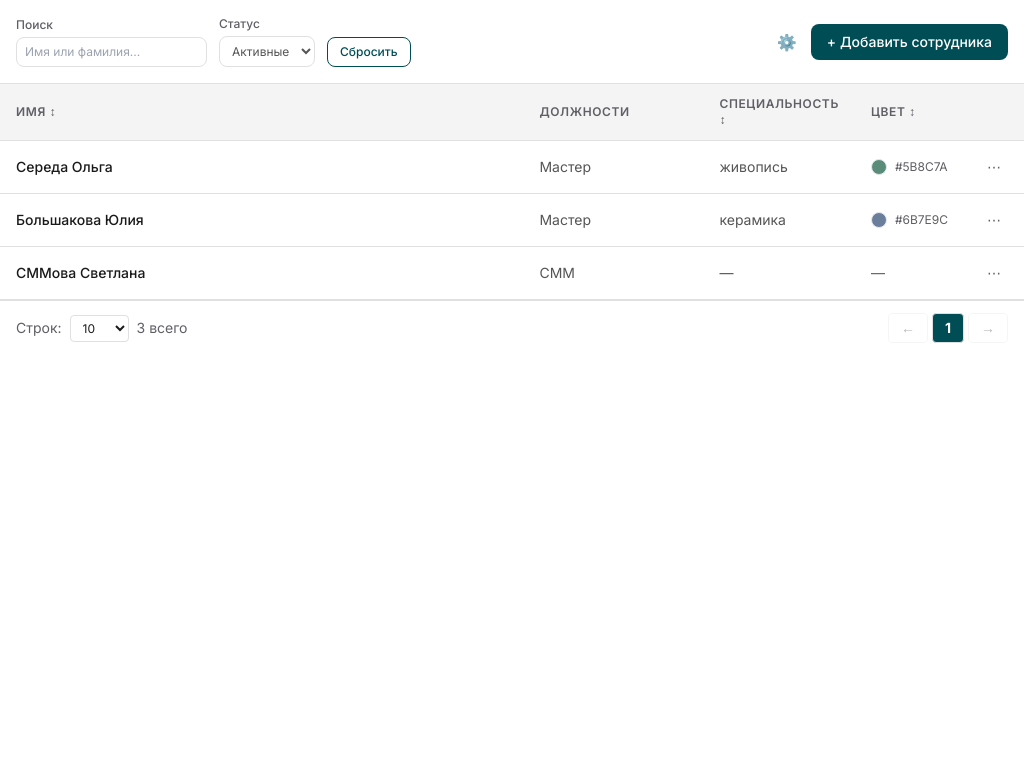
it: StaffTable › opens DeleteDialog with the 409 dependency tree when delete conflicts
Check: the text "Середа Ольга" is shown, box top-left (16, 158), bottom-right (113, 175)
Click the button named "Действия". click: (994, 167)
box: top-left (980, 153), bottom-right (1008, 181)
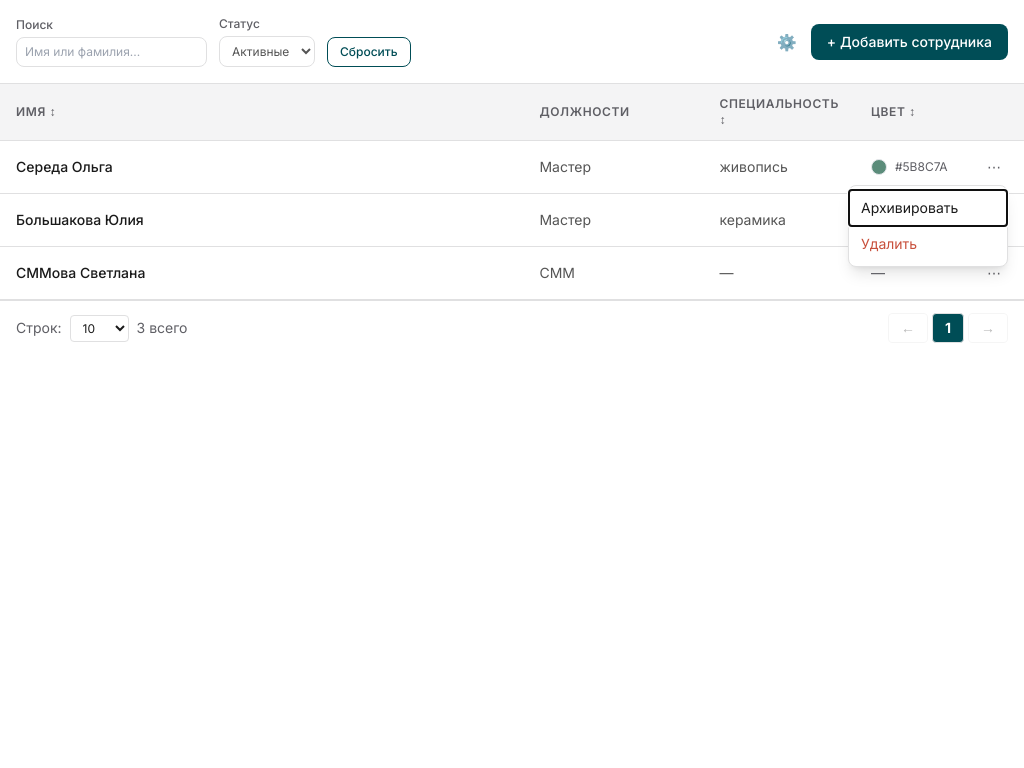
Click the menu item "Удалить". click: (928, 244)
box: top-left (849, 226), bottom-right (1007, 262)
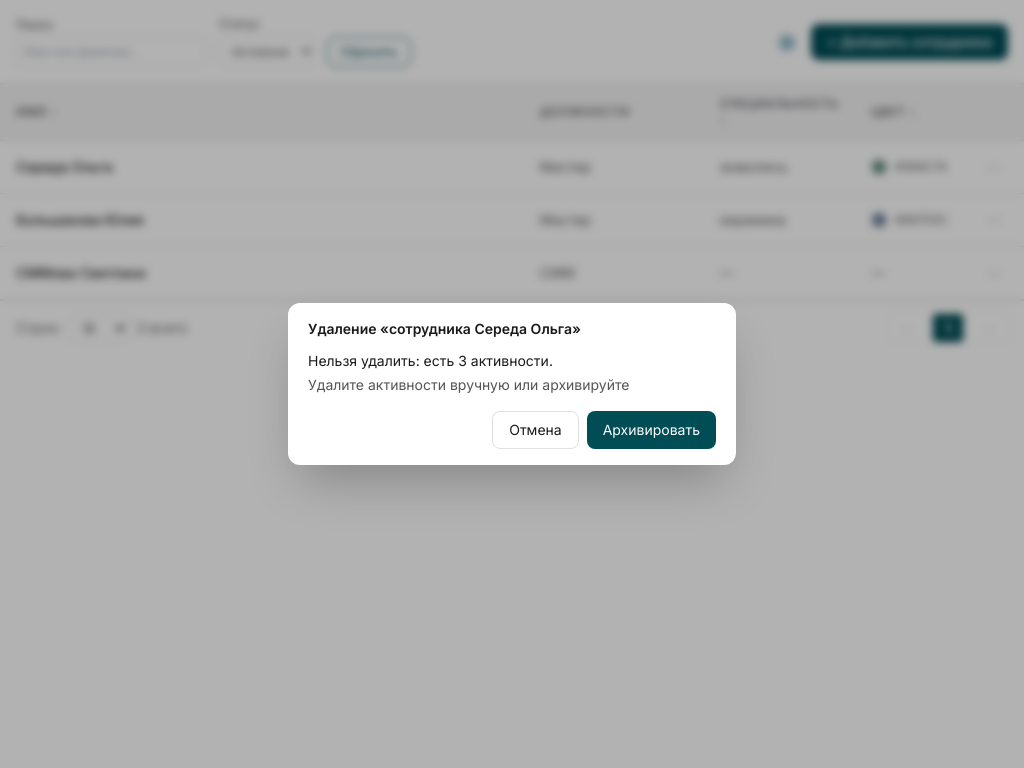
Check: the element with test id "delete-dialog" is shown, box top-left (288, 303), bottom-right (736, 465)
Check: the heading with test id "delete-dialog-title" shows "Середа Ольга", box top-left (308, 320), bottom-right (581, 337)
